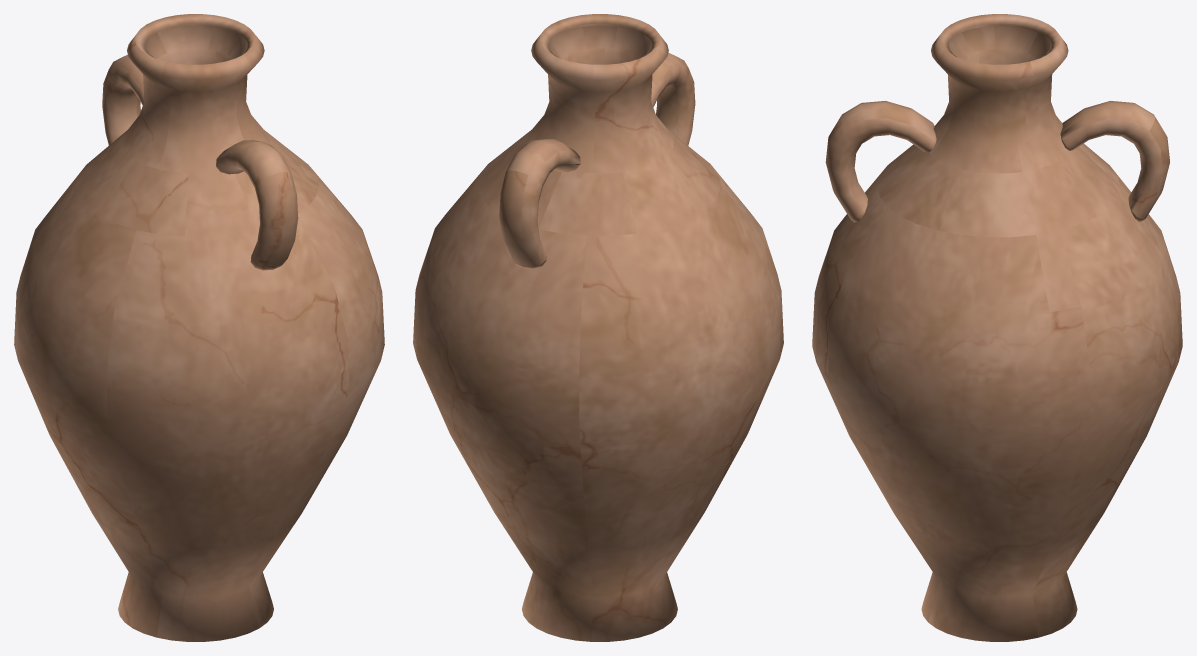
The model's file is Jarrón III.fbx.
The picture shows the model from 3 angles, left to right: view 1: azimuth 30°, elevation 25°; view 2: azimuth 150°, elevation 25°; view 3: azimuth 270°, elevation 25°; orthographic projection.
Visible parts, largest first — view 1: Jarrón III; view 2: Jarrón III; view 3: Jarrón III.
Part boxes in pixels (x1,y1,x2,y2): Jarrón III: [14, 14, 384, 641]; Jarrón III: [413, 14, 783, 641]; Jarrón III: [812, 14, 1182, 641].
Bounding box in the file's own units: 162 × 277 × 163.
1 material, 1 textured.
